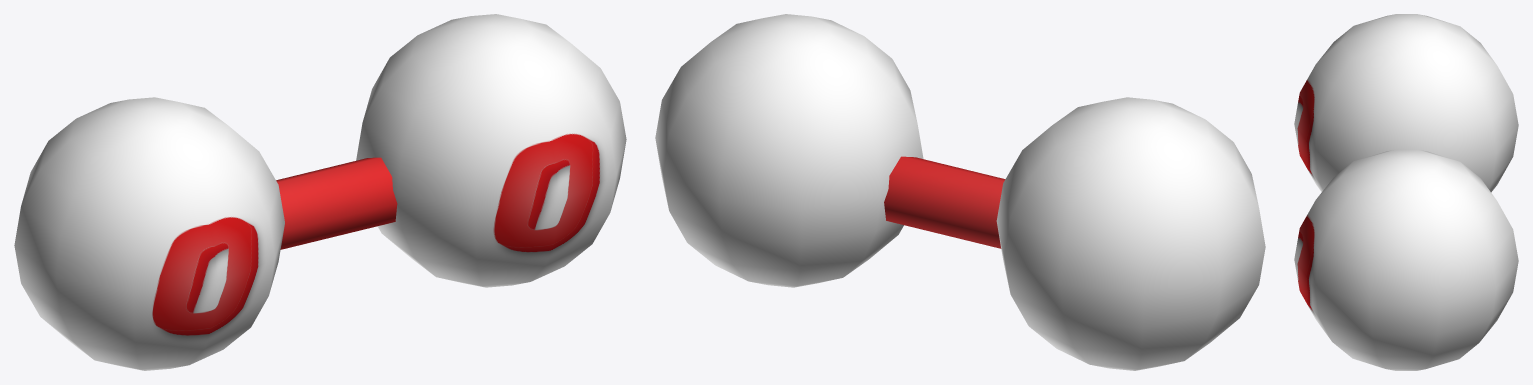
The model's file is Oxygen molecule.fbx.
3 views of the same model, side by side, from view 1: azimuth 30°, elevation 25°; view 2: azimuth 150°, elevation 25°; view 3: azimuth 270°, elevation 25° (orthographic). The views are drawn at different scales.
Visible parts, largest first — view 1: Oxygen_molecule; view 2: Oxygen_molecule; view 3: Oxygen_molecule.
Part boxes in pixels (x1,y1,x2,y2): Oxygen_molecule: (14, 14, 626, 370); Oxygen_molecule: (655, 14, 1265, 370); Oxygen_molecule: (1294, 14, 1518, 370).
Size of the model in its own units: 22.89 by 9.6 by 9.6.
1 material, 1 textured.
